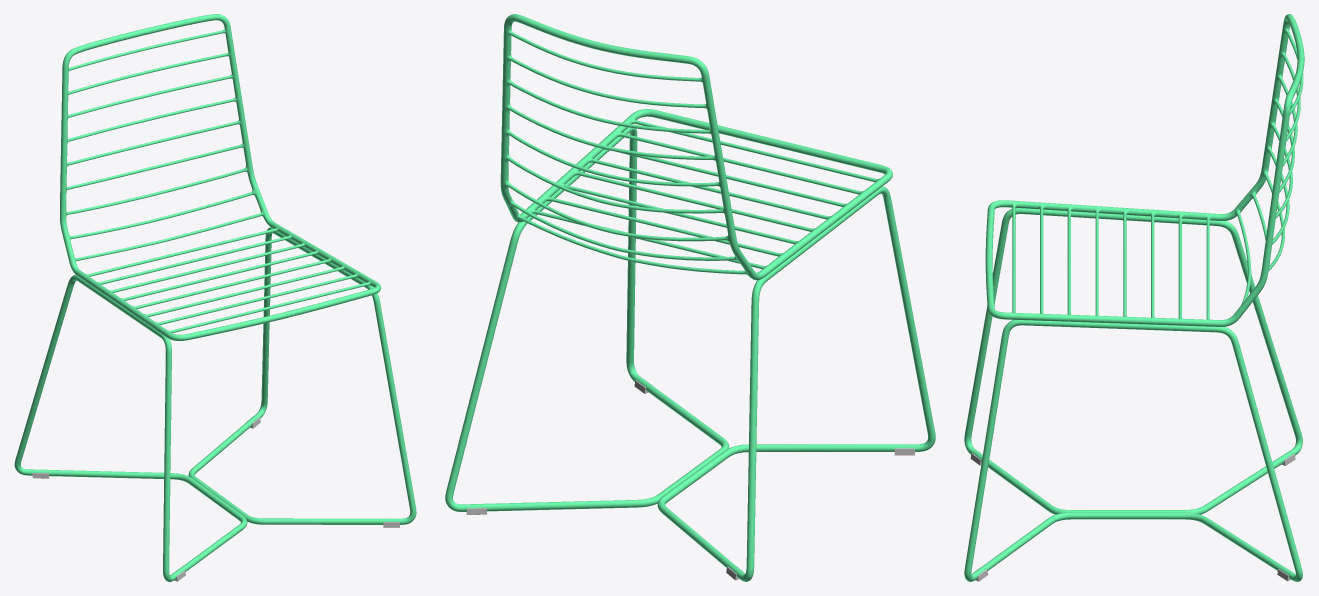
File: antia-chair-by-formabilio.fbx
The picture shows the model from 3 angles, left to right: view 1: azimuth 30°, elevation 25°; view 2: azimuth 150°, elevation 25°; view 3: azimuth 270°, elevation 25°; orthographic projection. The views are drawn at different scales.
Visible parts, largest first — view 1: Antia chair_frame; view 2: Antia chair_frame; view 3: Antia chair_frame.
Boxes of the visible parts, x1,y1,x2,y2 form: Antia chair_frame: [14, 14, 416, 581]; Antia chair_frame: [445, 14, 935, 581]; Antia chair_frame: [964, 14, 1304, 581].
Size of the model in its own units: 51.24 by 80.99 by 53.65.
